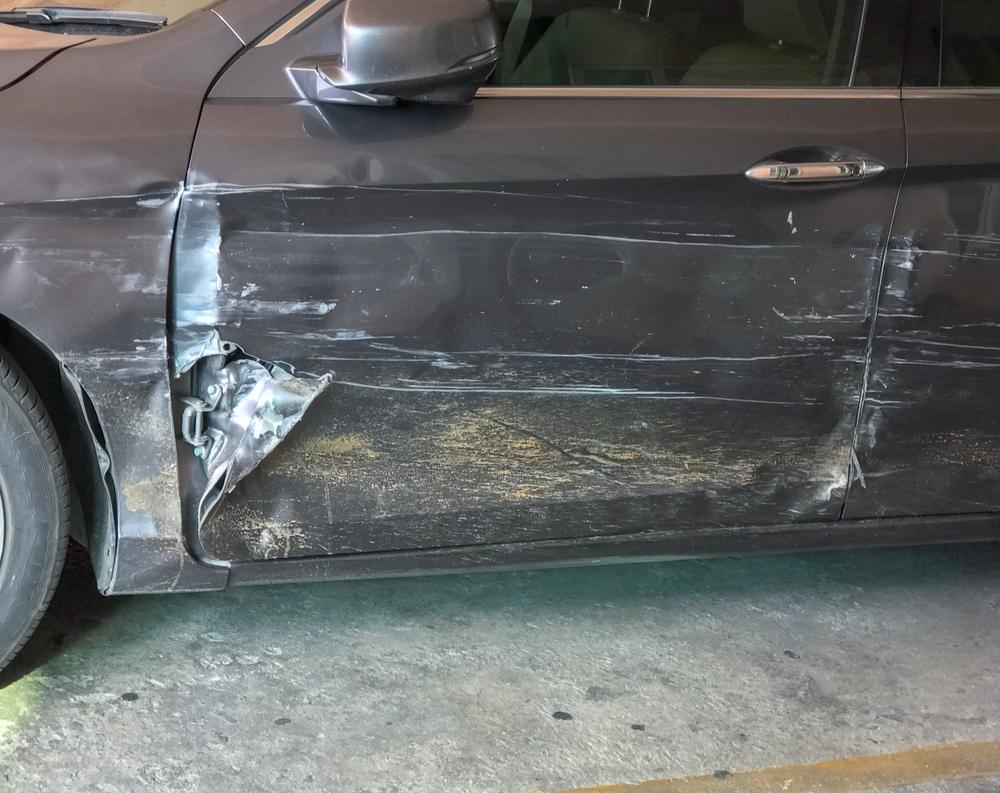dent: (173, 159, 805, 336), (850, 205, 1000, 496), (0, 136, 180, 346), (762, 220, 885, 511), (49, 300, 180, 538)
scratch: (243, 315, 831, 411)
